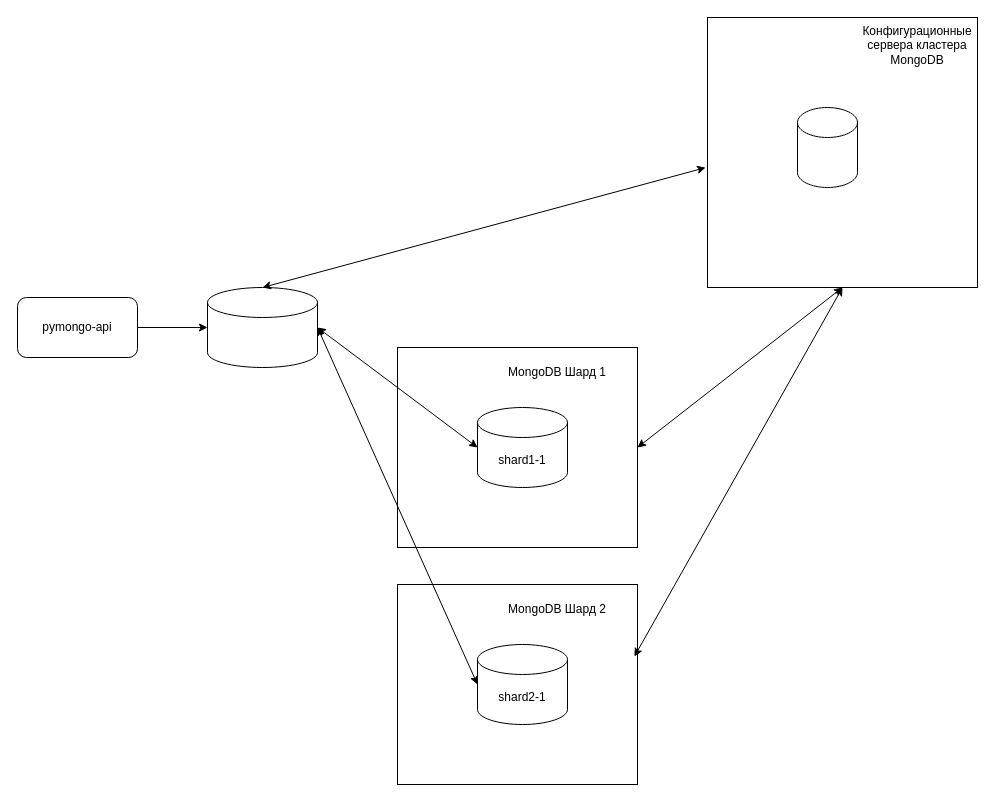
The diagram is 995 pixels wide and 802 high, and some of its shapes have lost their labels. The shapes that lost their labels are listed below. From the top down, each one's box as (x1, y1, x2, y2) in pixels, then its label:
(796, 106, 858, 188): cfgSrv1
(206, 286, 318, 368): MongoDB Роутер
